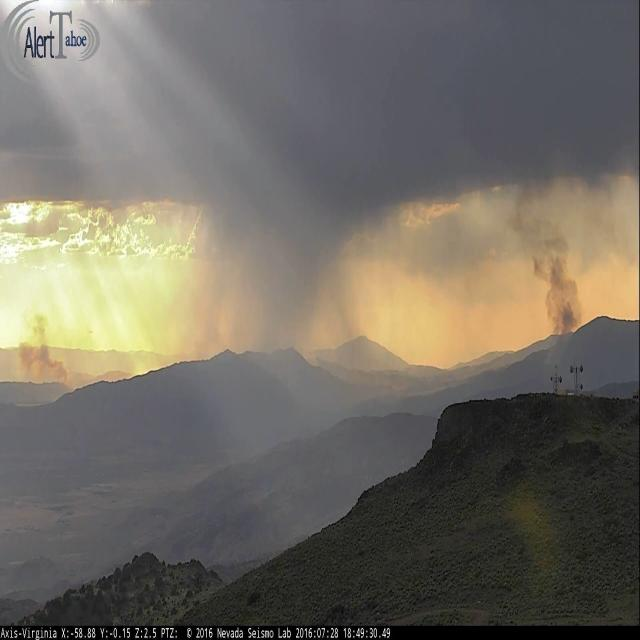smoke: (528, 205, 578, 376), (16, 307, 74, 391)
